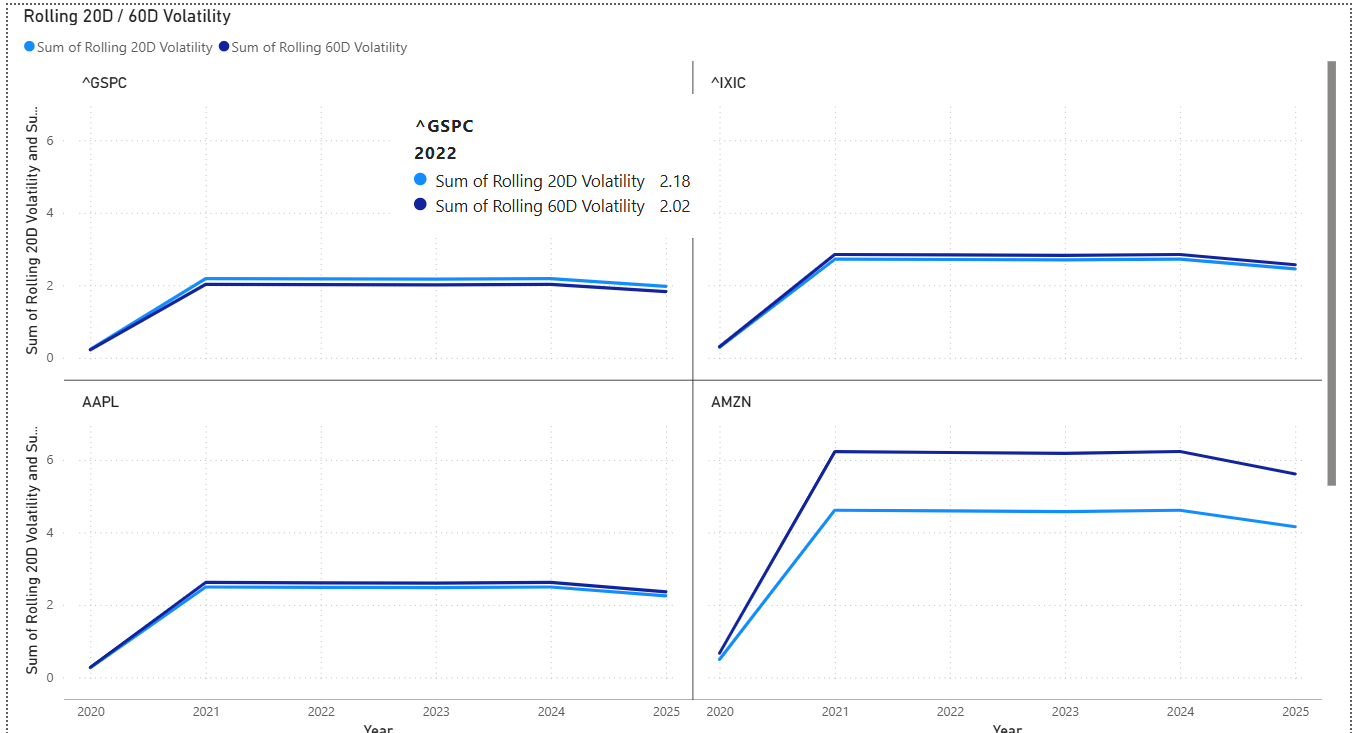

The dashboard page shown, as its layout file describes it:
{"tool":"powerbi","page":{"name":"Volatility","canvas":[1280,720],"ordinal":1},"visuals":[{"type":"lineChart","title":"Rolling 20D / 60D Volatility","fields":{"Category":["price_history.price_date.Variation.Date Hierarchy.Year","price_history.price_date.Variation.Date Hierarchy.Quarter","price_history.price_date.Variation.Date Hierarchy.Month","price_history.price_date.Variation.Date Hierarchy.Day"],"Y":["Sum(price_history.Rolling 20D Volatility)","Sum(price_history.Rolling 60D Volatility)"],"Rows":["price_history.symbol"]},"box":[9.5,0,1262.4,706.9],"z":0}]}

Visuals, with their boxes on the page's 1280x720 design canvas (x1, y1, x2, y2). These are canvas units, not pixel positions in the 1355x733 screenshot, which may show the page scaled, cropped or inside an application window:
"Rolling 20D / 60D Volatility" lineChart: left=10, top=0, right=1272, bottom=707
